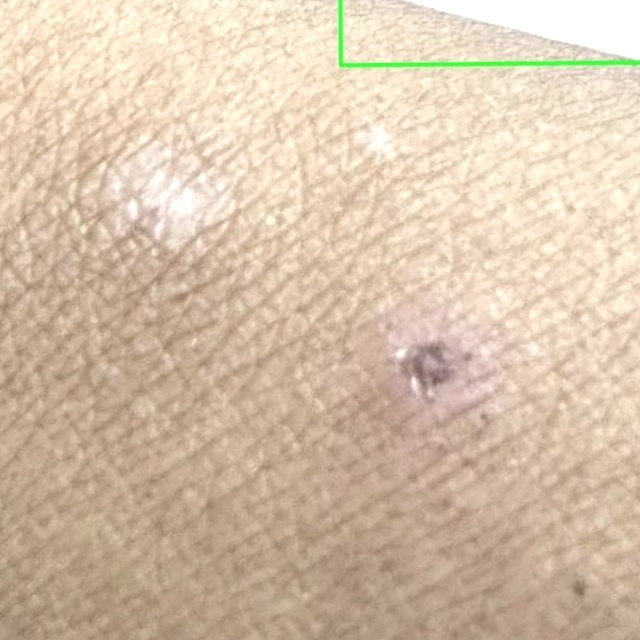Scabies: (340, 0, 639, 65)
